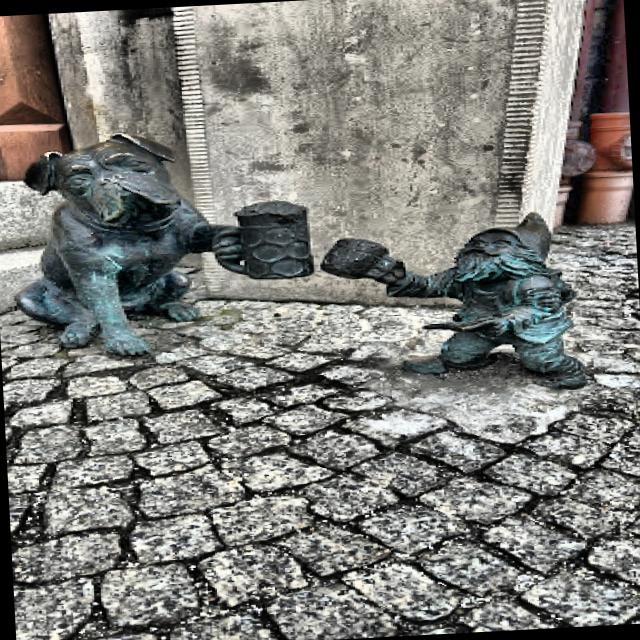Piwozlopek_ i_Piesel_Piwosz: (18, 134, 312, 355), (322, 214, 586, 387)
